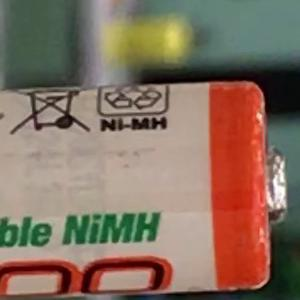NIMH: (53, 203, 170, 255)
